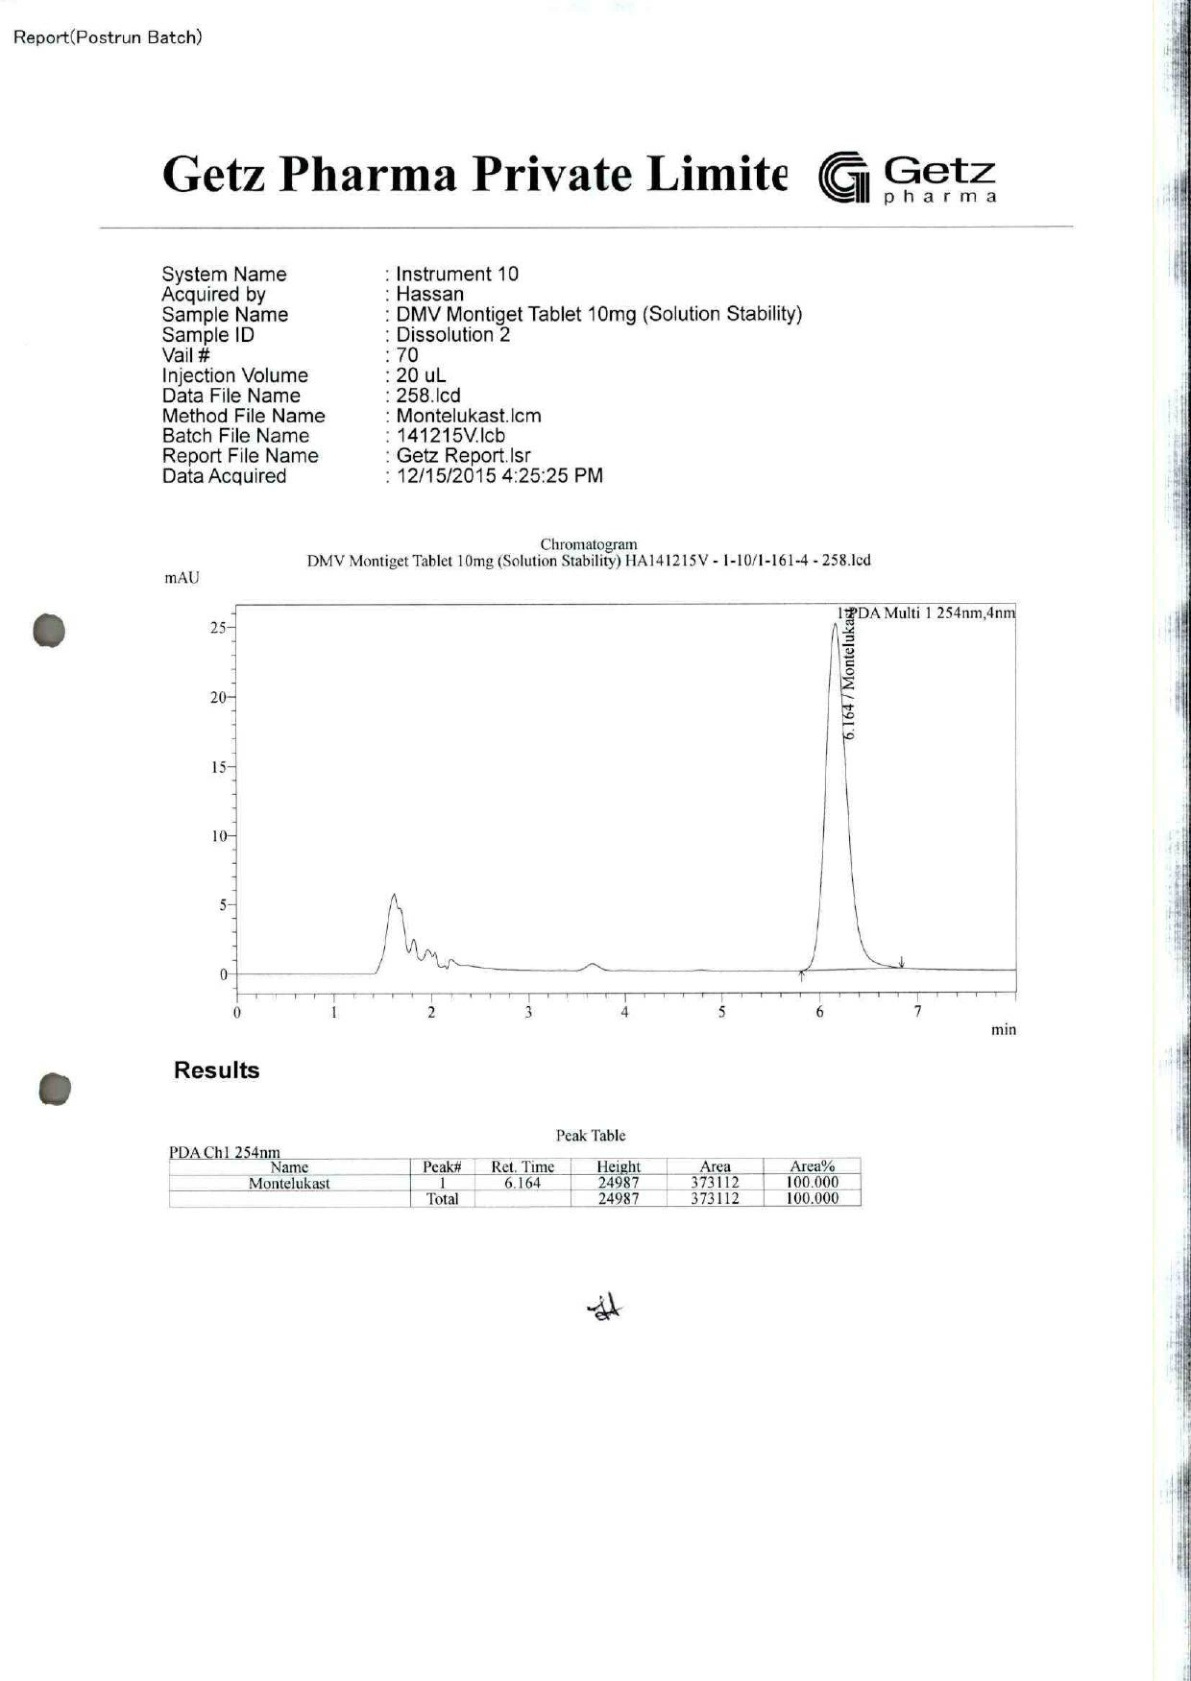full_lined: (168, 1158, 864, 1208)
nolines: (155, 258, 806, 489)
